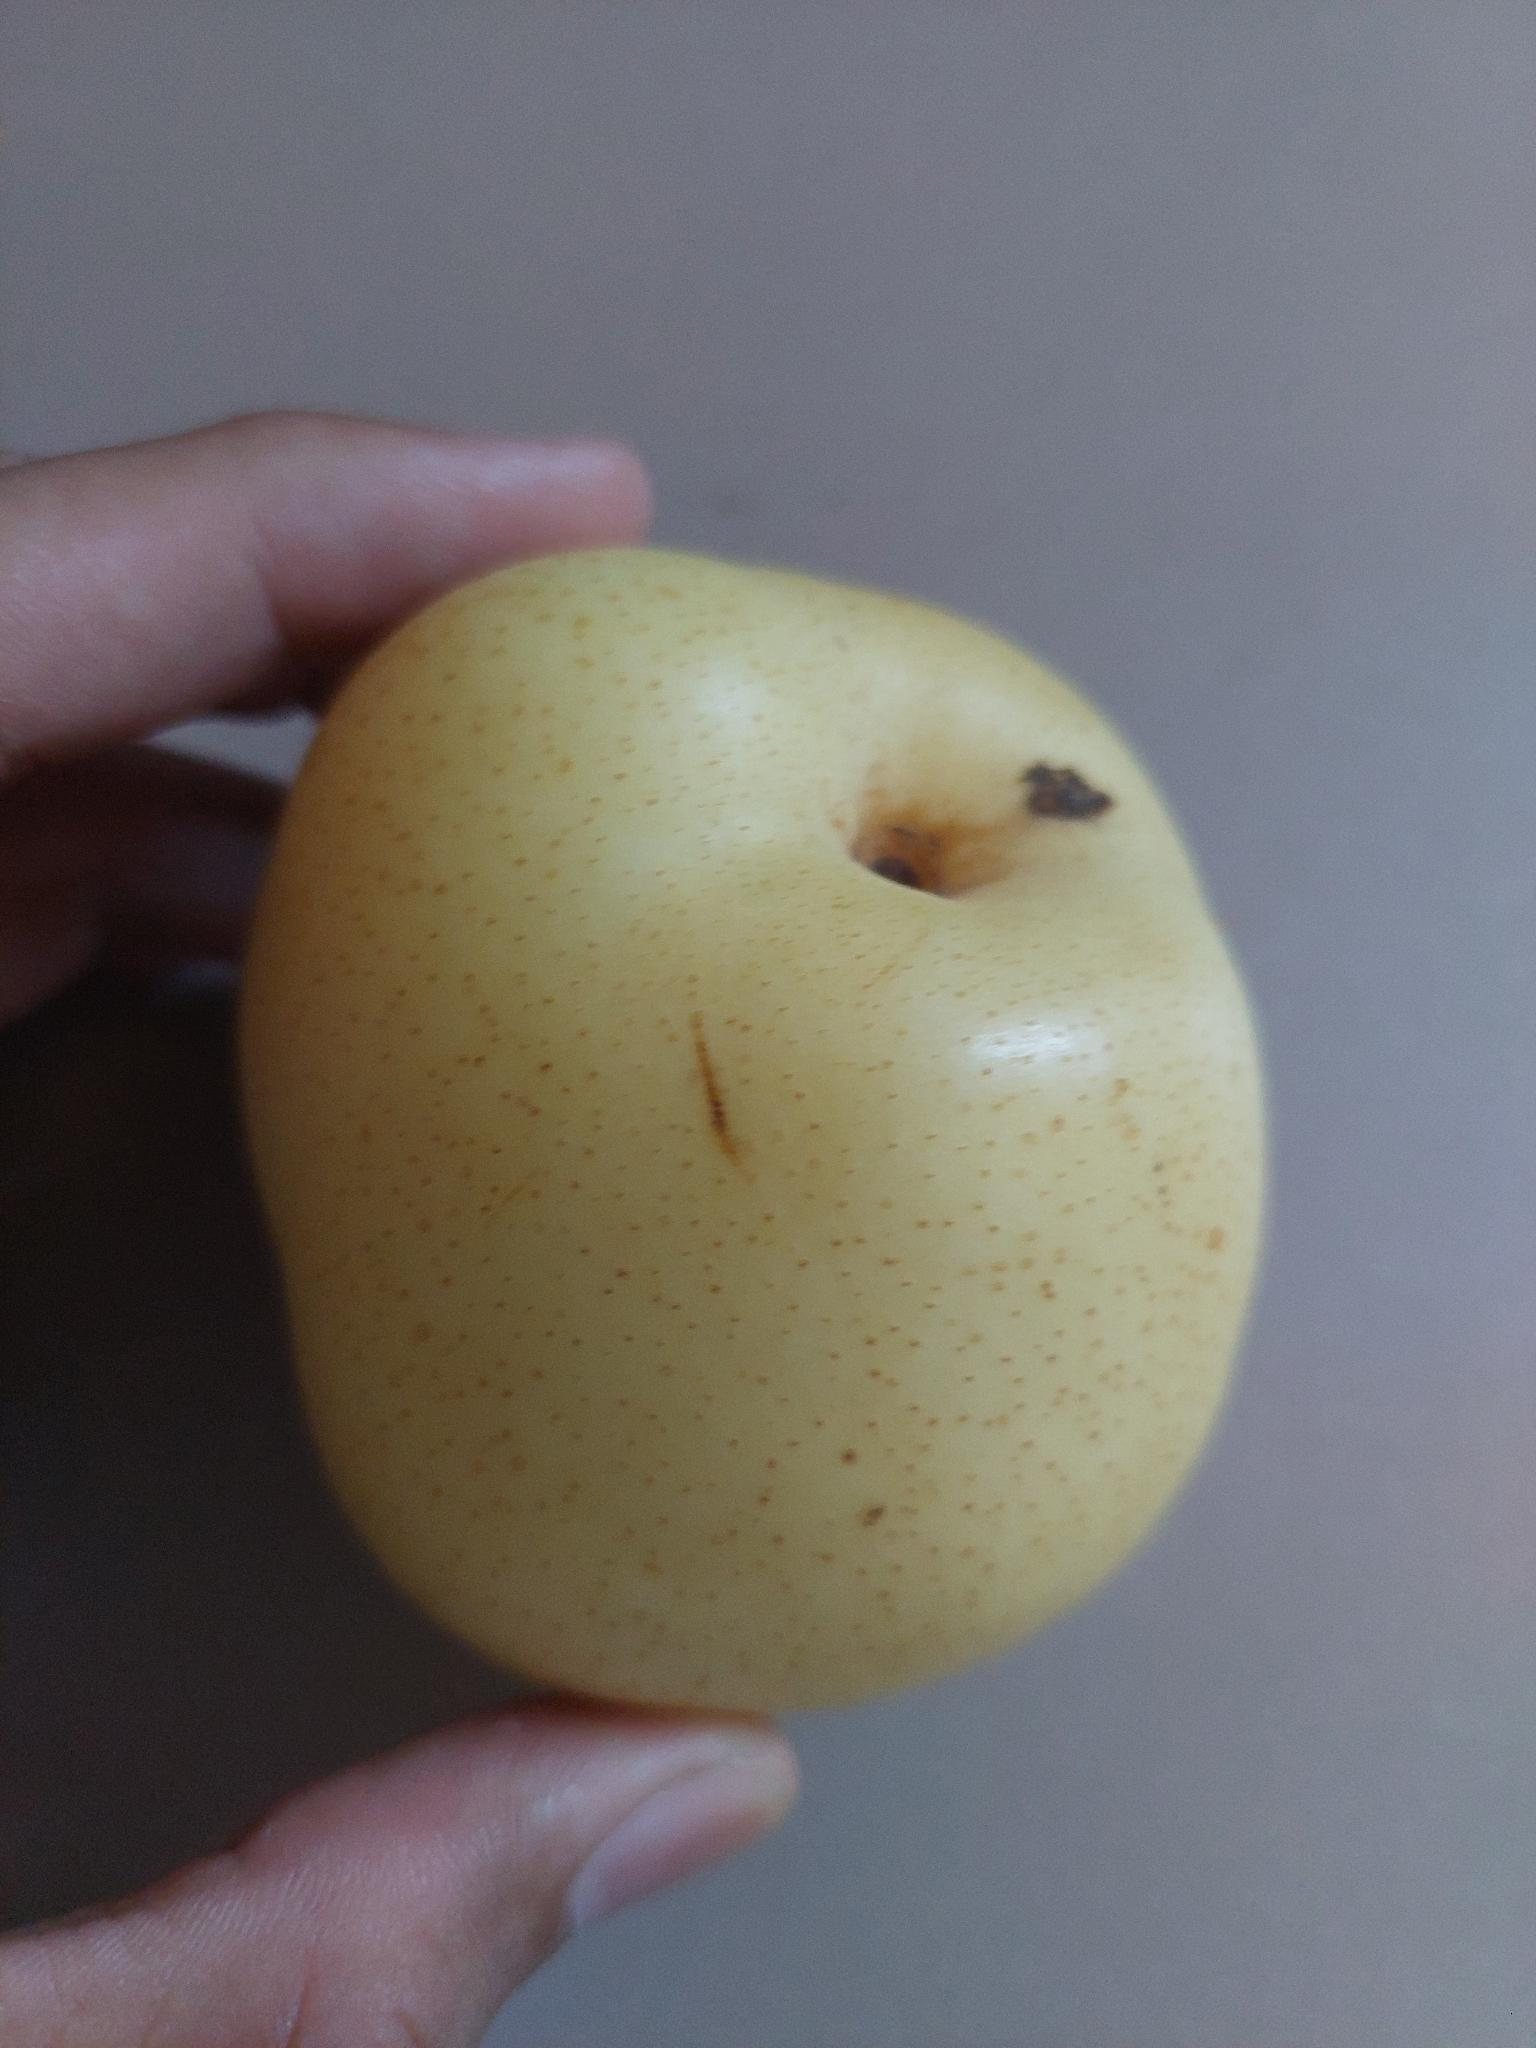Good Pear: (248, 537, 1263, 1738)
